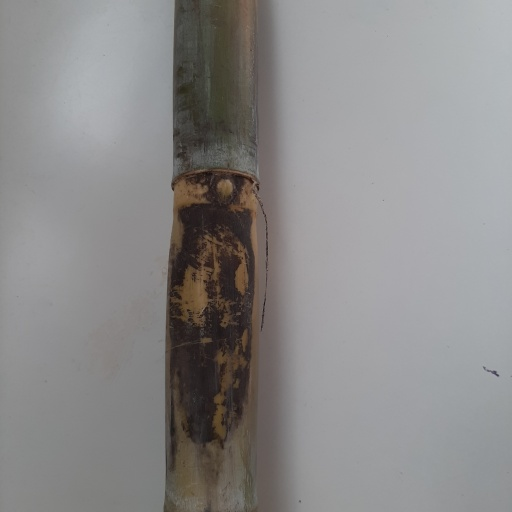Bud: (211, 175, 238, 211)
